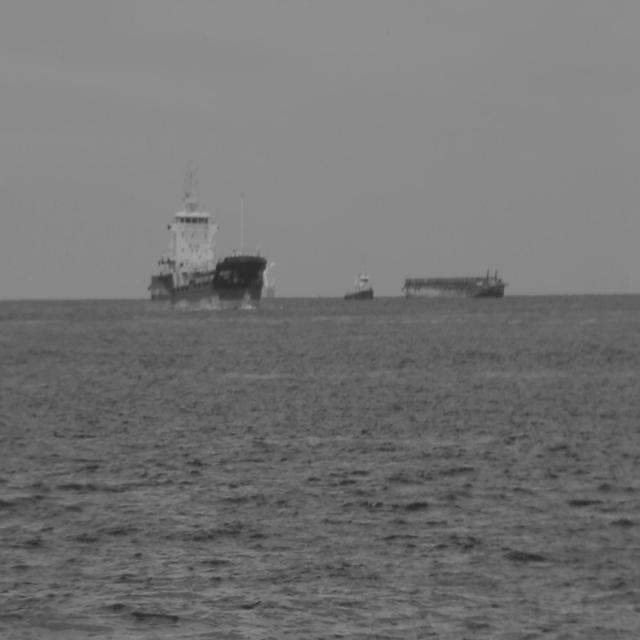ship: (146, 168, 266, 308), (400, 270, 507, 300), (257, 252, 275, 304)
